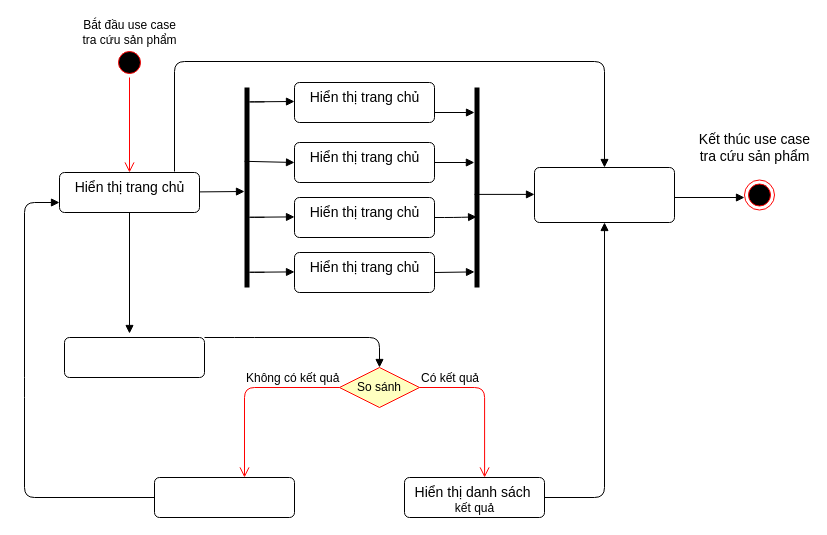
Some shapes in this 827 by 535 pixel diagram are drawn without their labels. Here are the shapes that lost their labels. From the top down, the box of each, then its label:
(534, 166, 674, 222): Hiển thị trang thông tin chi tiết sản phẩm cụ thể
(64, 336, 204, 378): Nhập vào ô tra cứu
(154, 476, 294, 518): Thông báo không tìm thấy
